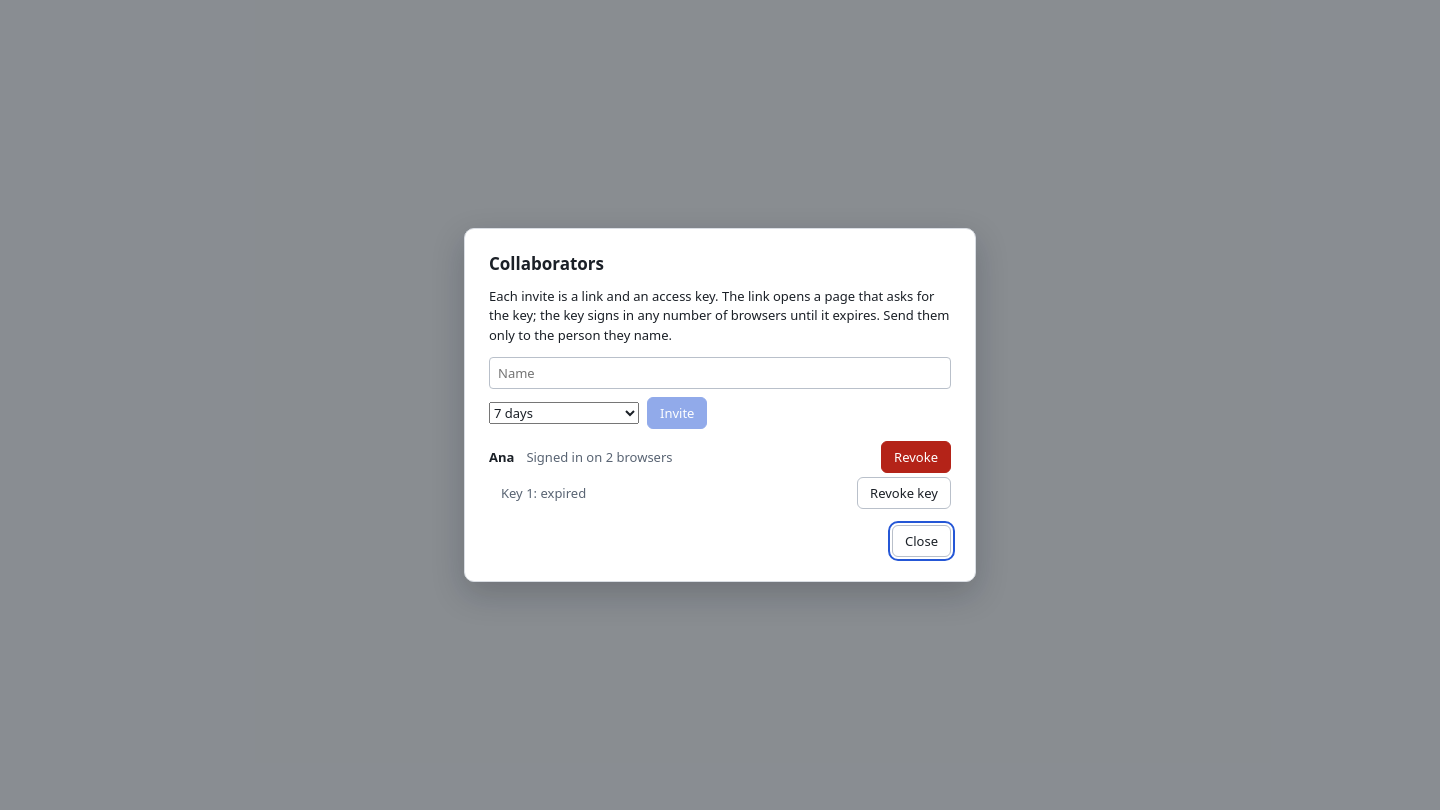
Scenario: CollaboratorsDialog › revokes a collaborator and lists again
The width and height of the screenshot is (1440, 810).
Click the button with aria-label "Revoke Ana". click: (916, 457)
box: [881,441,951,473]
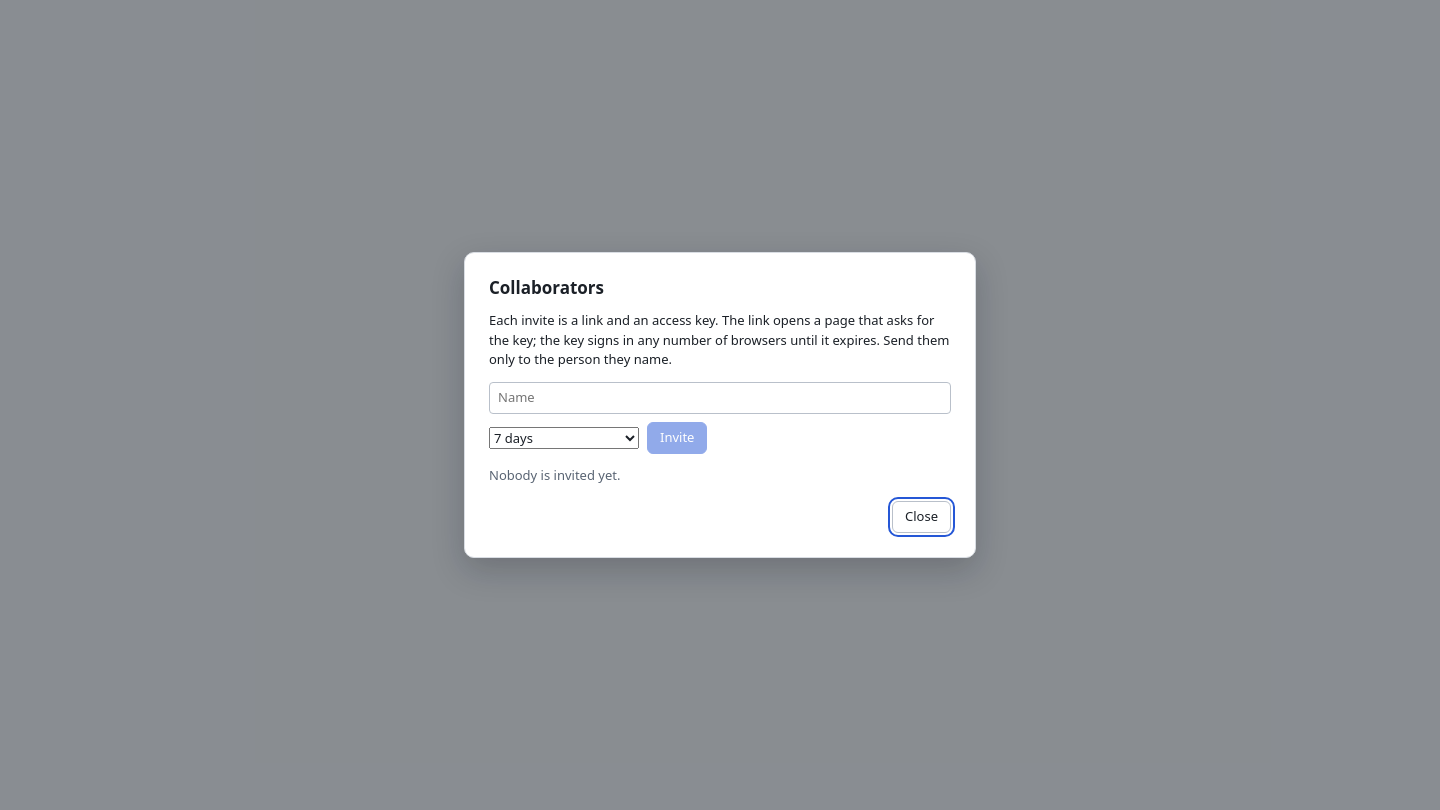
Check: the text "Nobody is invited yet." is shown, box [489,466,620,484]
